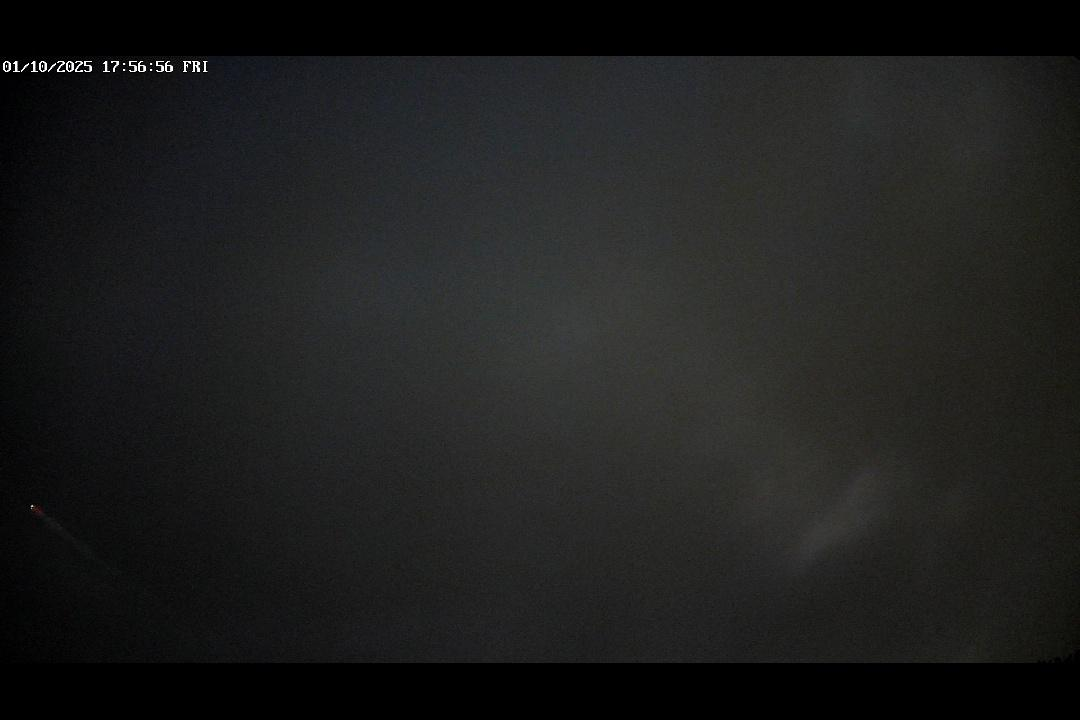Plane: (23, 499, 124, 579)
